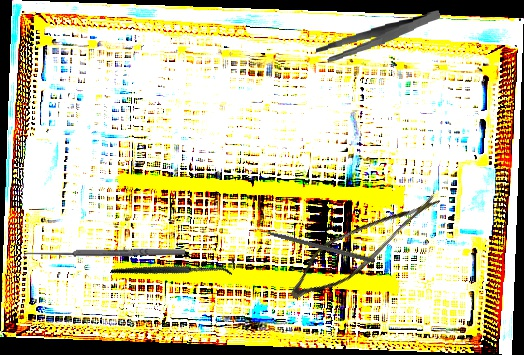Dressing Forceps: (313, 9, 443, 64)
Hook Surgical: (110, 211, 239, 322), (251, 224, 376, 264), (23, 246, 186, 265)
Micro Scissor: (282, 162, 443, 323)
